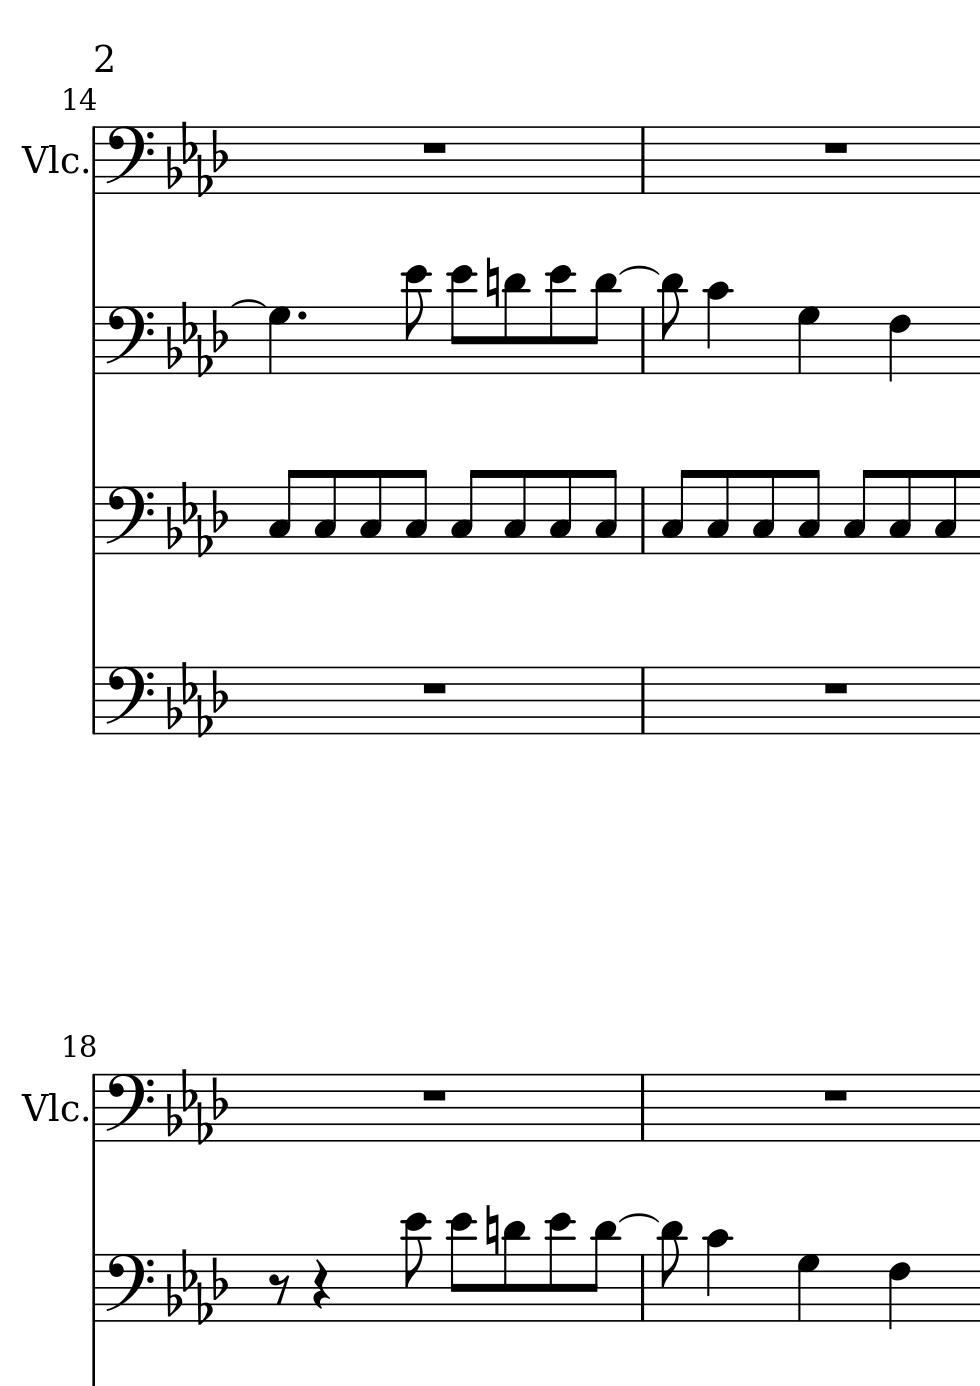1: (62, 86, 77, 115), (63, 1032, 76, 1060)
2: (93, 42, 115, 74)
4: (78, 85, 98, 115)
4_10: (704, 280, 732, 376), (704, 1227, 731, 1324)
4_6: (886, 1251, 913, 1332), (886, 304, 912, 384)
4_7: (795, 1252, 822, 1323), (795, 305, 821, 376), (266, 304, 291, 375)
8: (78, 1032, 97, 1059)
8_11: (584, 271, 619, 376), (584, 1220, 619, 1323), (657, 271, 686, 375), (657, 1220, 685, 1324), (502, 271, 529, 376), (502, 1220, 528, 1324)
8_12: (447, 1211, 476, 1323), (448, 263, 477, 374), (401, 1211, 430, 1324), (402, 264, 431, 376), (546, 263, 575, 375), (547, 1211, 575, 1323)
8_3: (449, 468, 482, 556), (267, 468, 300, 554), (660, 467, 692, 555), (842, 468, 873, 556), (501, 468, 528, 556), (887, 468, 914, 556), (592, 467, 618, 556), (312, 469, 338, 556), (358, 468, 384, 556), (403, 468, 428, 556), (548, 468, 574, 556), (705, 468, 731, 556), (751, 468, 776, 556), (797, 467, 821, 556), (933, 468, 958, 557)
A_F: (164, 1068, 233, 1151), (163, 300, 234, 378), (164, 480, 230, 563), (164, 1247, 233, 1326), (164, 659, 231, 738), (164, 119, 229, 198)
Fclef: (104, 125, 155, 197), (103, 1073, 154, 1145), (103, 1252, 154, 1324), (103, 305, 154, 376), (103, 485, 154, 556), (104, 664, 154, 733)
Natural: (484, 1203, 498, 1256), (484, 256, 498, 308)
Rests1: (819, 679, 852, 699), (820, 138, 852, 157), (418, 679, 450, 697), (820, 1086, 852, 1104), (419, 1086, 449, 1104), (419, 139, 449, 156)
Rests4: (311, 1258, 330, 1311)
Rests8: (267, 1271, 290, 1305)
Single_barline: (634, 487, 652, 555), (634, 667, 651, 734), (86, 127, 102, 196), (86, 487, 102, 555), (86, 308, 102, 374), (86, 667, 102, 734), (634, 1074, 650, 1140), (634, 128, 650, 193), (634, 309, 650, 373), (86, 1074, 101, 1142), (86, 1255, 101, 1321), (634, 1257, 649, 1321)
Slur: (619, 1212, 658, 1224), (618, 265, 658, 276), (229, 297, 267, 308)
Vlc: (20, 139, 78, 181), (21, 1088, 78, 1128)
dot: (295, 309, 307, 322)
